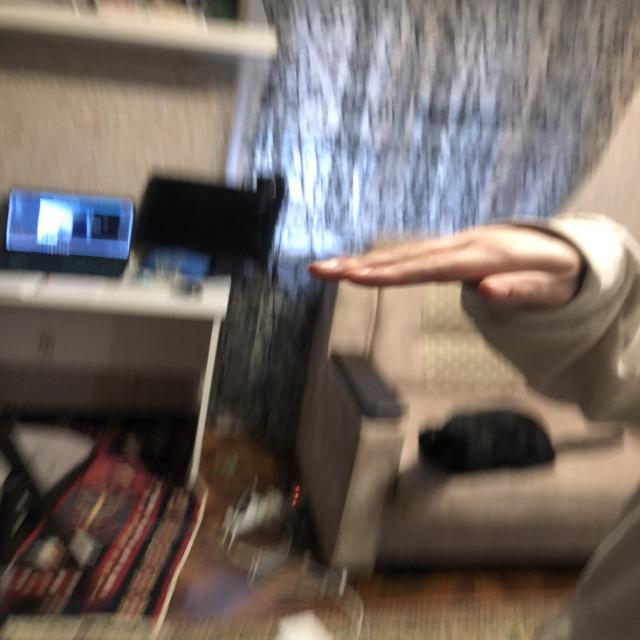paper: (308, 222, 578, 302)
